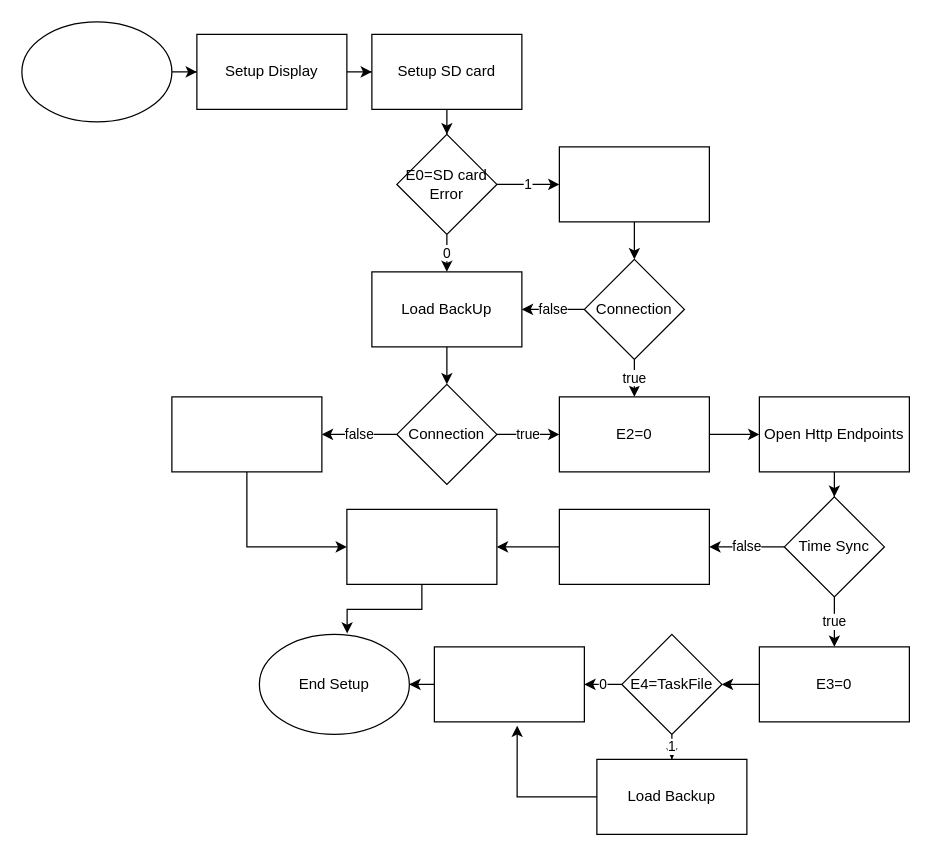
Some shapes in this 931 by 856 pixel diagram are drawn without their labels. Each missing label, with the box of its shape:
Default Setup: (433, 646, 584, 722)
E1= WifiFile: (558, 146, 709, 222)
E2=1: (171, 396, 322, 472)
E3=1: (558, 508, 709, 584)
Set On: (346, 508, 497, 584)
Setup Start: (21, 21, 172, 122)
